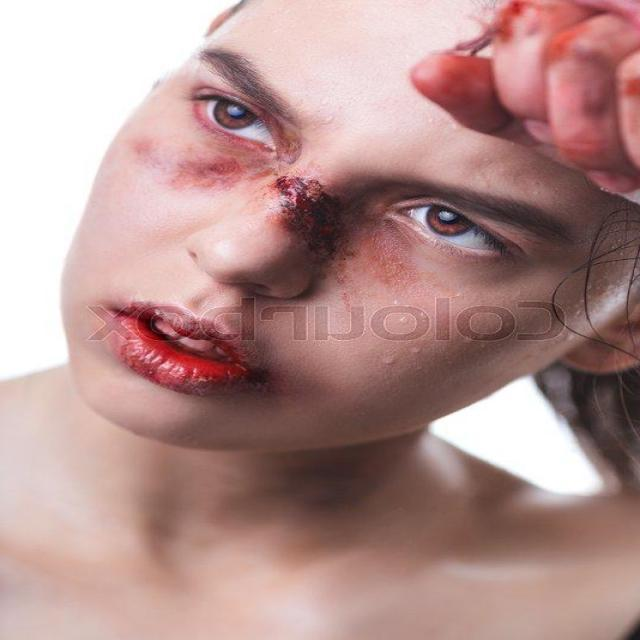flood: (98, 277, 258, 409), (266, 160, 384, 271)
